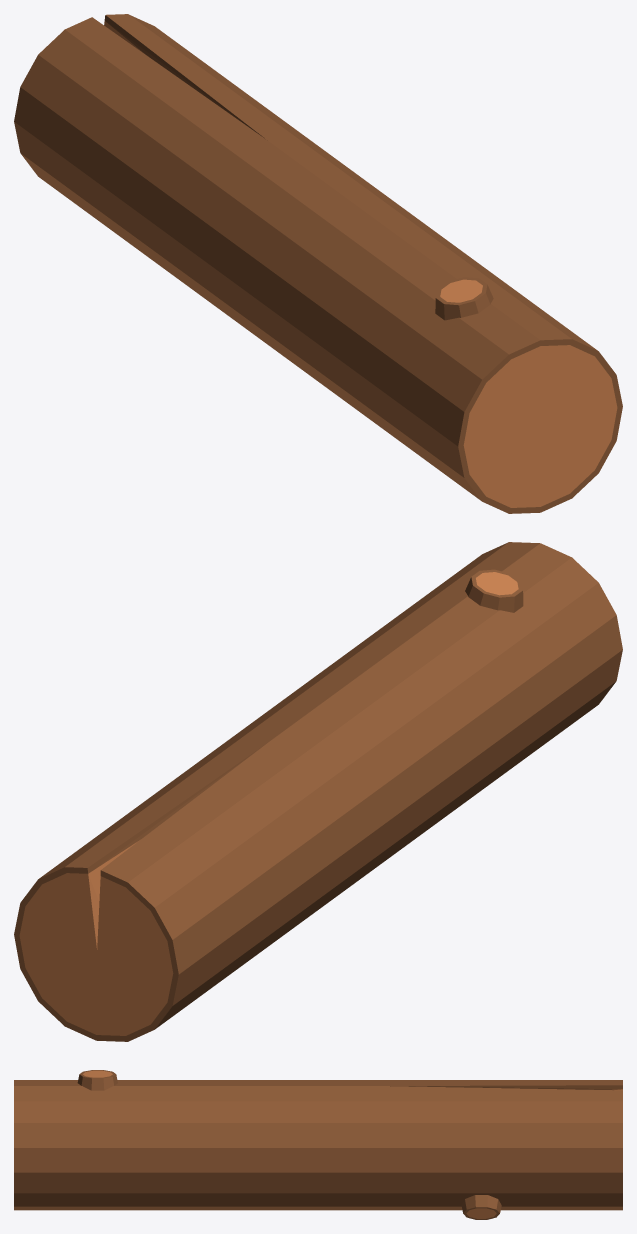
The model's file is tree_trunks_02.fbx.
3 renders of one model, top to bottom at view 1: azimuth 30°, elevation 25°; view 2: azimuth 150°, elevation 25°; view 3: azimuth 270°, elevation 25°, orthographic. The views are drawn at different scales.
Parts seen in each view (by area): view 1: Cylinder001; view 2: Cylinder001; view 3: Cylinder001.
Boxes of the visible parts, x1,y1,x2,y2 form: Cylinder001: [14, 14, 622, 513]; Cylinder001: [14, 542, 622, 1041]; Cylinder001: [14, 1070, 622, 1219].
Bounding box in the file's own units: 90.38 × 96.89 × 420.
1 material, 1 textured.
